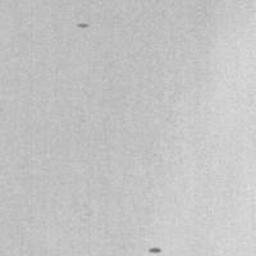Inclusion: (147, 247, 163, 255), (76, 22, 91, 29)
